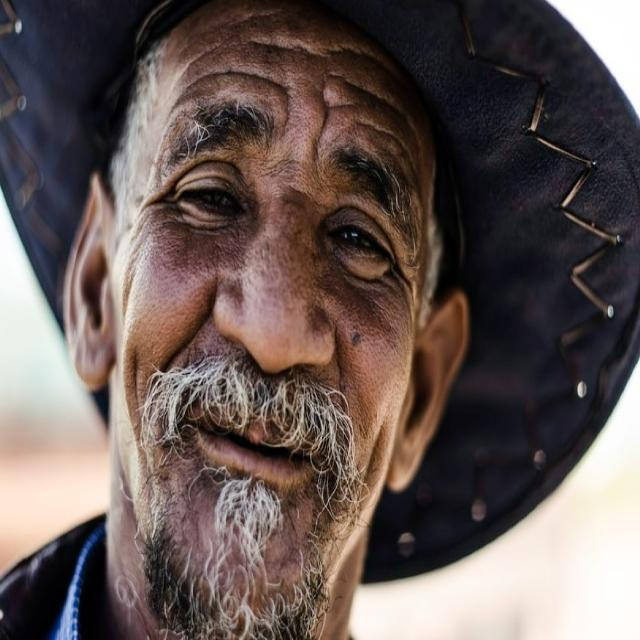Wrinkles: (328, 74, 418, 138), (358, 120, 417, 171), (187, 70, 288, 96), (253, 40, 323, 59), (392, 268, 414, 309), (316, 105, 328, 157), (284, 87, 289, 128), (352, 96, 362, 105), (323, 74, 325, 108), (329, 105, 352, 107)
